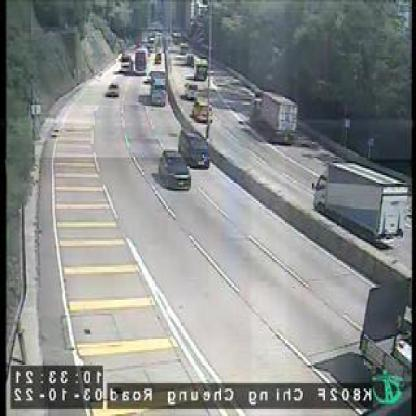Bus: (135, 47, 148, 74)
Car: (181, 128, 212, 166), (160, 149, 190, 187), (195, 99, 213, 123), (105, 83, 121, 99), (186, 82, 199, 97)
Truck: (314, 163, 410, 251), (250, 88, 296, 144), (151, 68, 166, 104), (118, 54, 133, 73)
